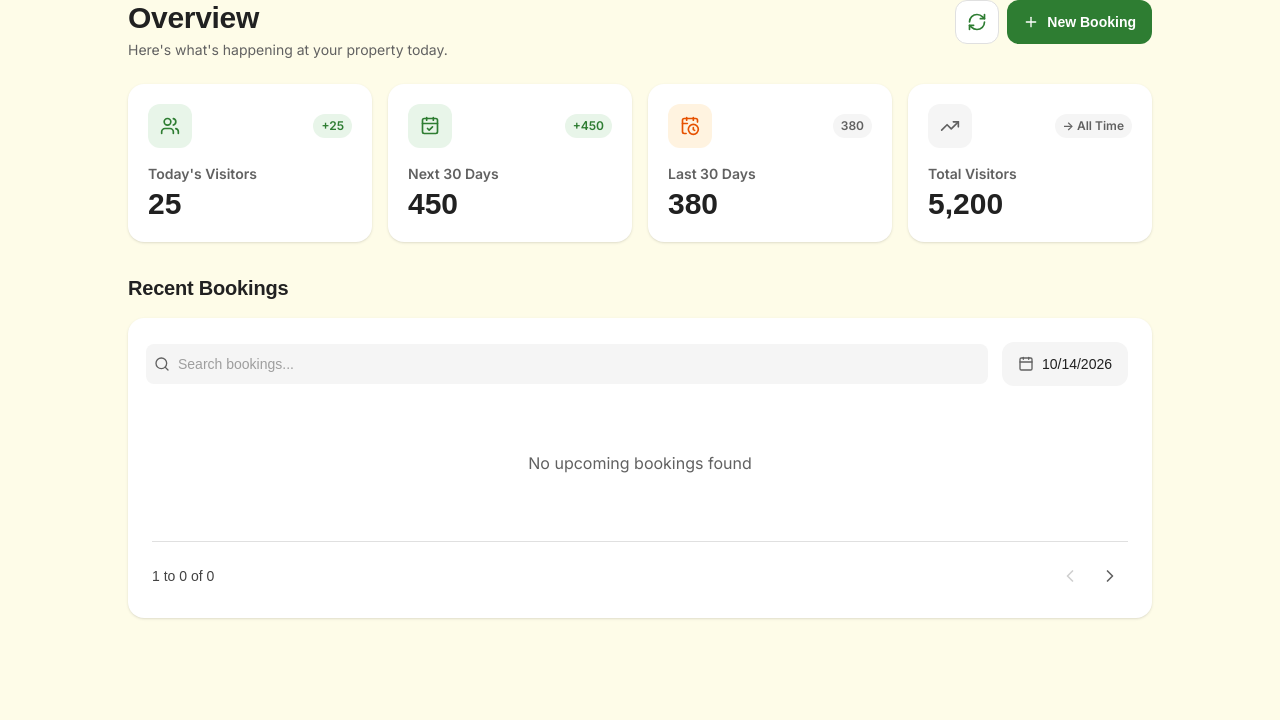
Test case: Dashboard Page › Navigation › opens instant booking modal when button clicked
The image size is (1280, 720).
Click the button "New Booking" at (1080, 22), box [1007,0,1152,44]
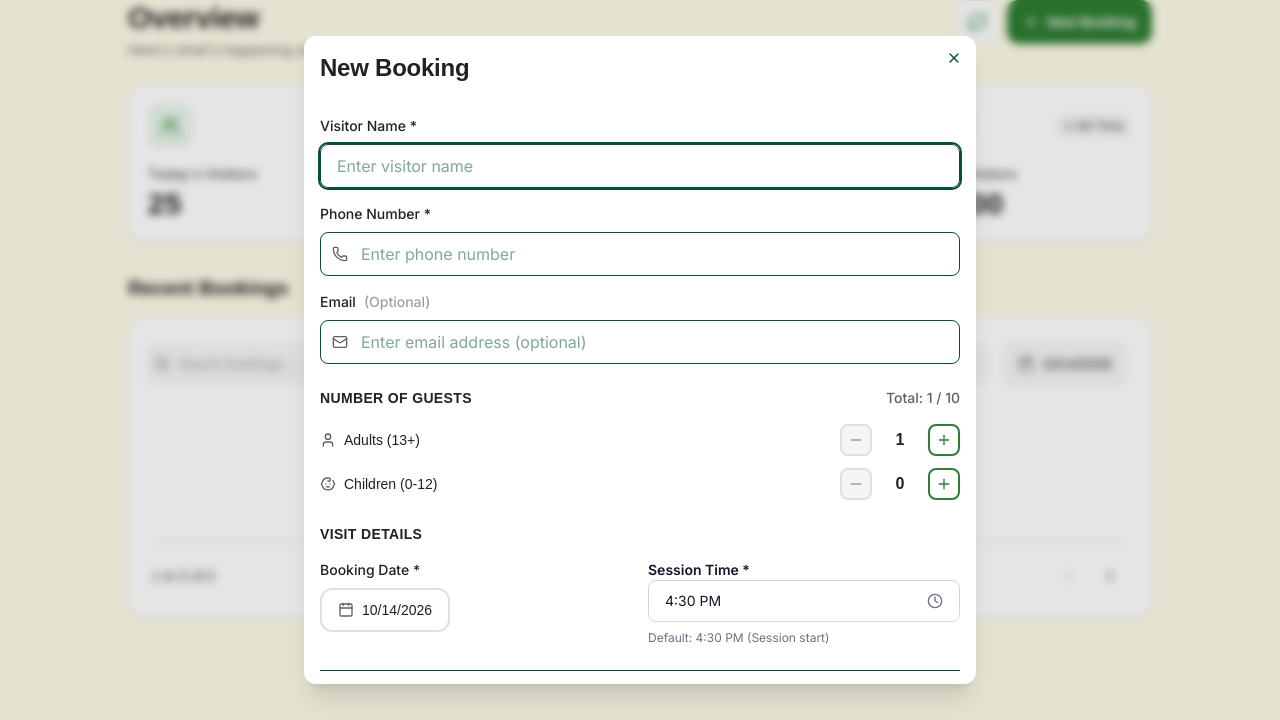
Now the dialog is shown, box [304,36,976,684]
